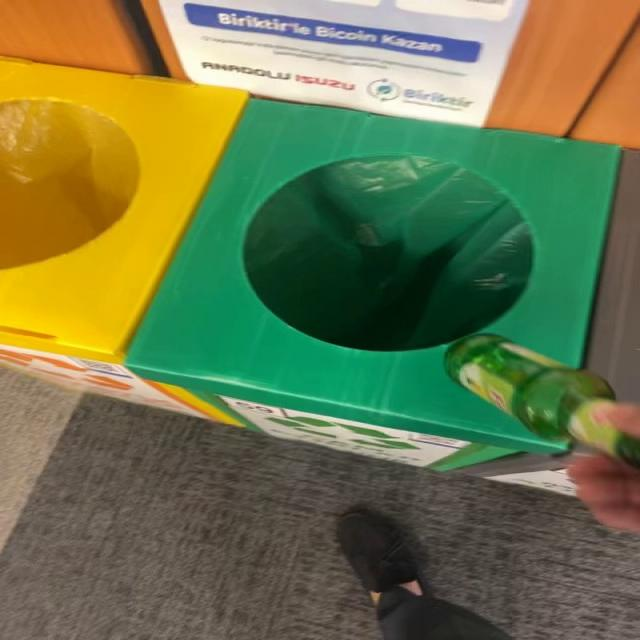glass: (445, 335, 640, 468)
